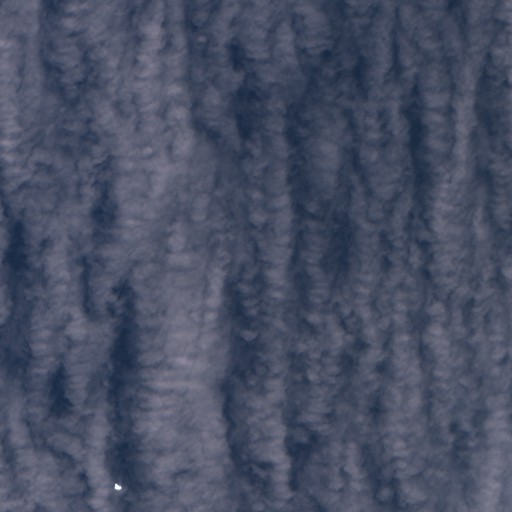Iceberg: (114, 483, 121, 489)
